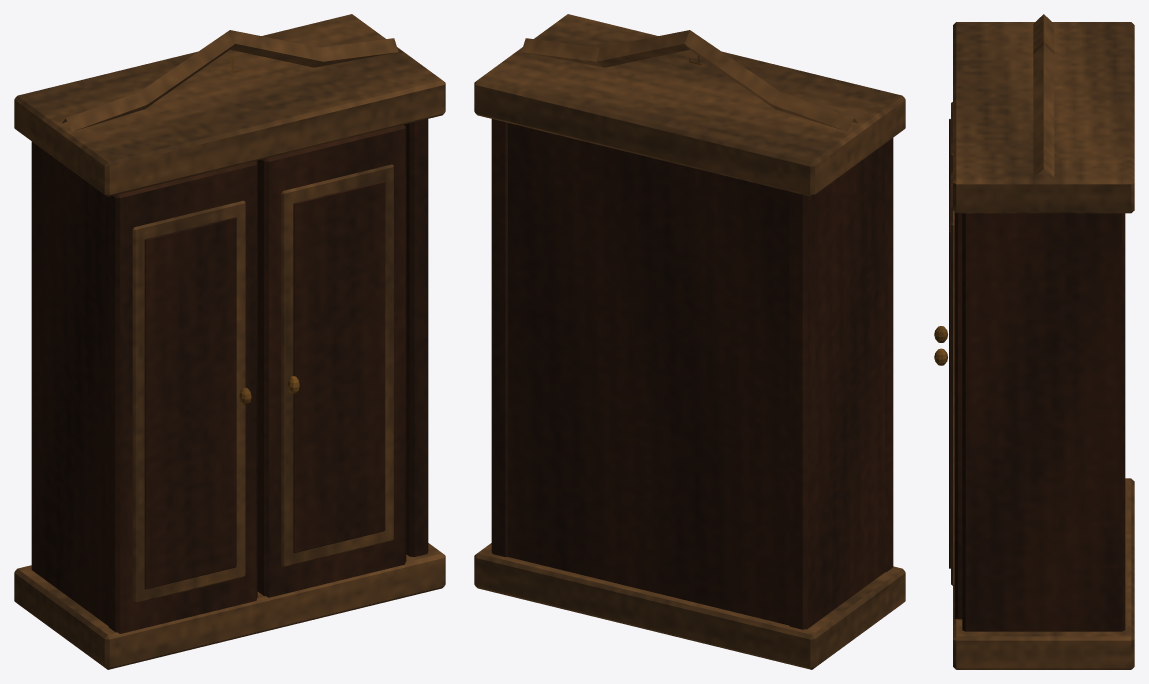
The model's file is wardrobe.glb.
3 renders of one model, left to right at view 1: azimuth 30°, elevation 25°; view 2: azimuth 150°, elevation 25°; view 3: azimuth 270°, elevation 25°, orthographic. The views are drawn at different scales.
Parts seen in each view (by area): view 1: wardrobe; view 2: wardrobe; view 3: wardrobe.
Boxes of the visible parts, x1,y1,x2,y2 form: wardrobe: (14, 14, 445, 669); wardrobe: (474, 14, 905, 669); wardrobe: (934, 14, 1134, 669).
Bounding box in the file's own units: 1.63 × 2.64 × 0.86.
Materials: 3 (3 with a texture image).
